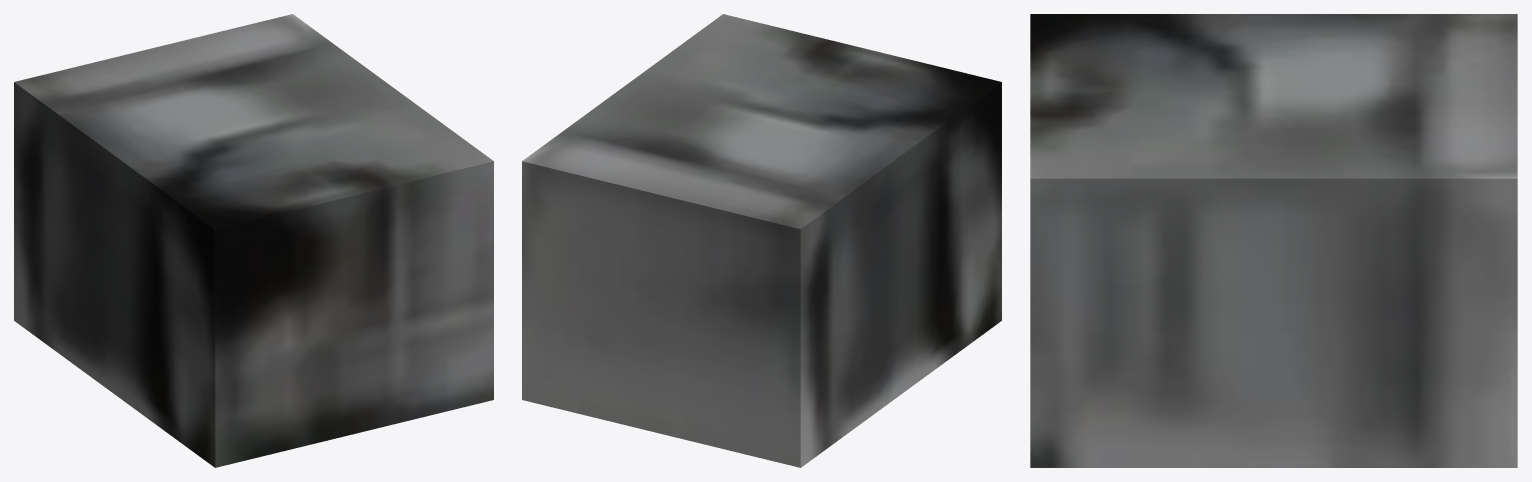
Rendered from frame__back_rail_gusset_0.glb.
The picture shows the model from 3 angles, left to right: view 1: azimuth 30°, elevation 25°; view 2: azimuth 150°, elevation 25°; view 3: azimuth 270°, elevation 25°; orthographic projection. The views are drawn at different scales.
Parts seen in each view (by area): view 1: world; view 2: world; view 3: world.
Part boxes in pixels (x1=…): world: x1=14, y1=14, x2=493, y2=467; world: x1=522, y1=14, x2=1001, y2=467; world: x1=1030, y1=14, x2=1517, y2=467.
Bounding box in the file's own units: 0.044 × 0.036 × 0.055.
Materials: 1 (1 with a texture image).
